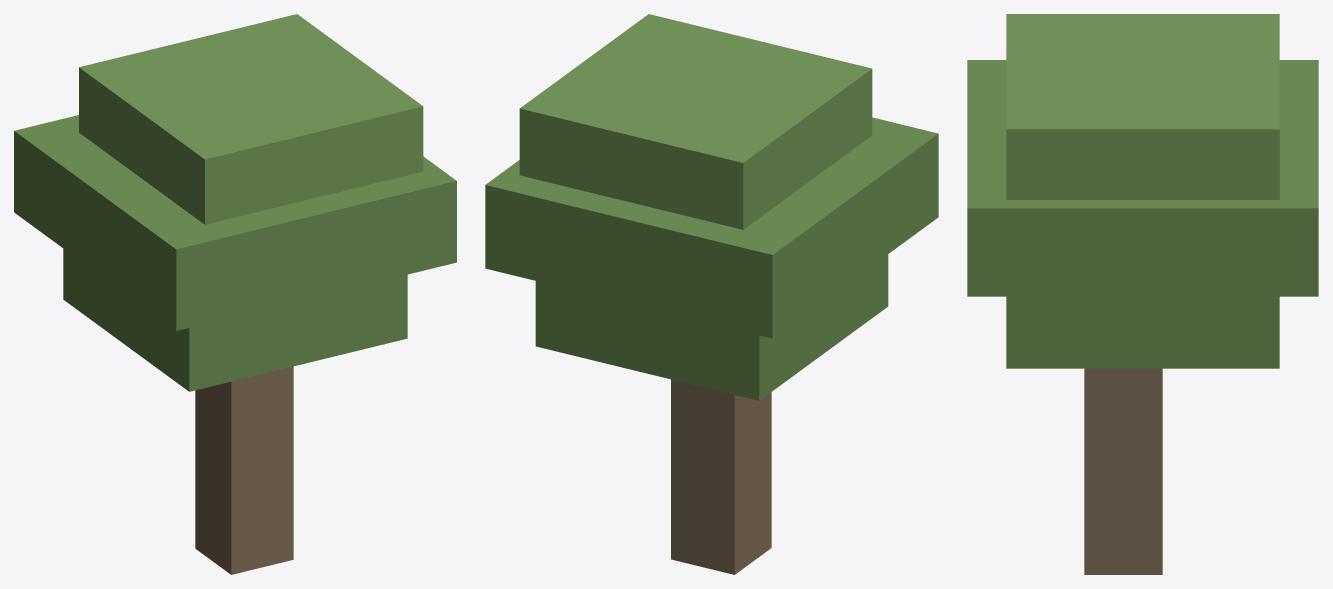
File: roble_05.glb
The picture shows the model from 3 angles, left to right: view 1: azimuth 30°, elevation 25°; view 2: azimuth 150°, elevation 25°; view 3: azimuth 270°, elevation 25°; orthographic projection. The views are drawn at different scales.
Parts seen in each view (by area): view 1: roble_05; view 2: roble_05; view 3: roble_05.
Boxes of the visible parts, bbox=[...] form: roble_05: bbox=[14, 14, 456, 574]; roble_05: bbox=[485, 14, 938, 574]; roble_05: bbox=[967, 14, 1318, 574].
Size of the model in its own units: 1.8 by 2.8 by 1.8.
